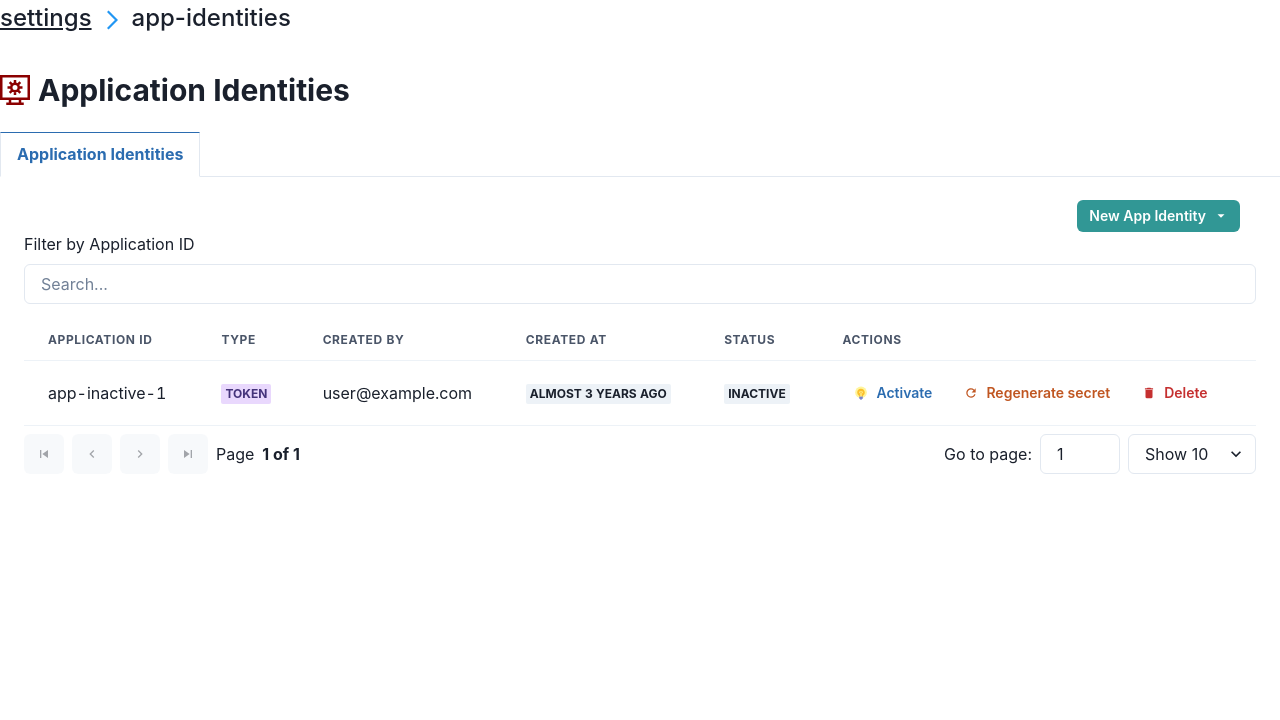
Test case: AppIdentityPage › hides the regenerate secret action once the secret is regenerated
The image size is (1280, 720).
Click the button "Regenerate secret" at (1037, 393), box [952,377,1122,409]
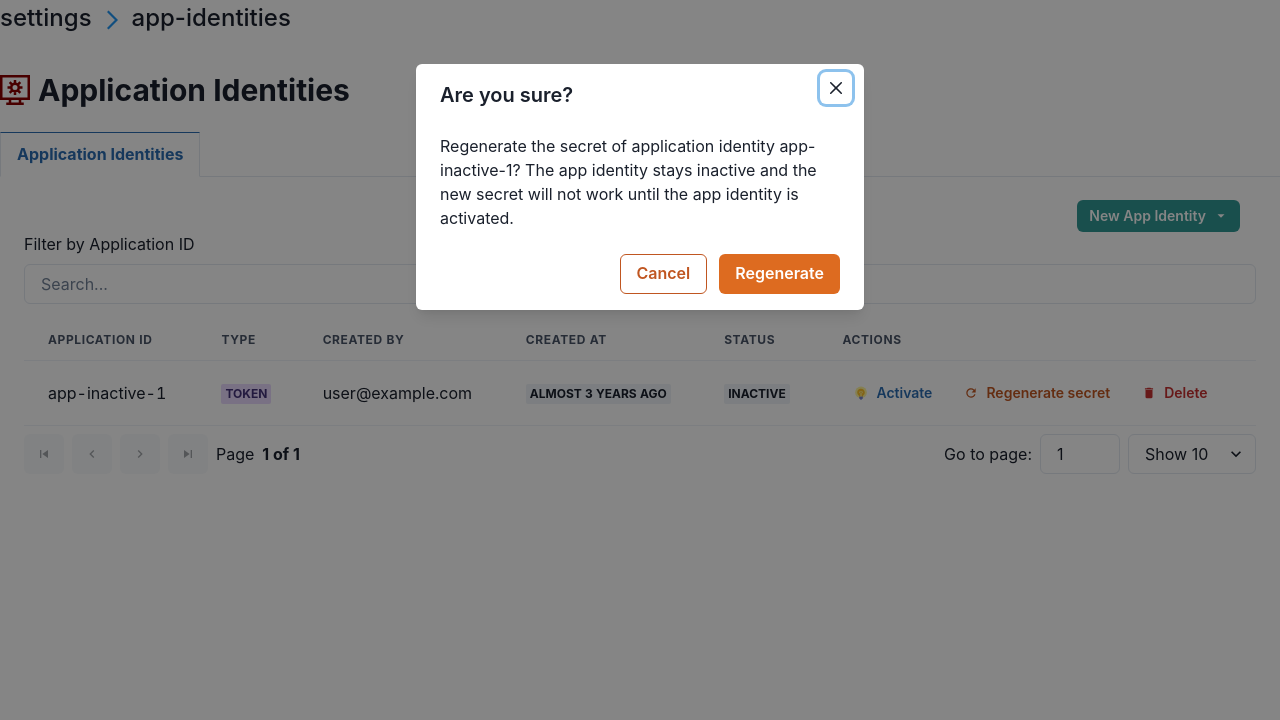
Click the button "Regenerate" at (780, 274), box [719,254,840,294]
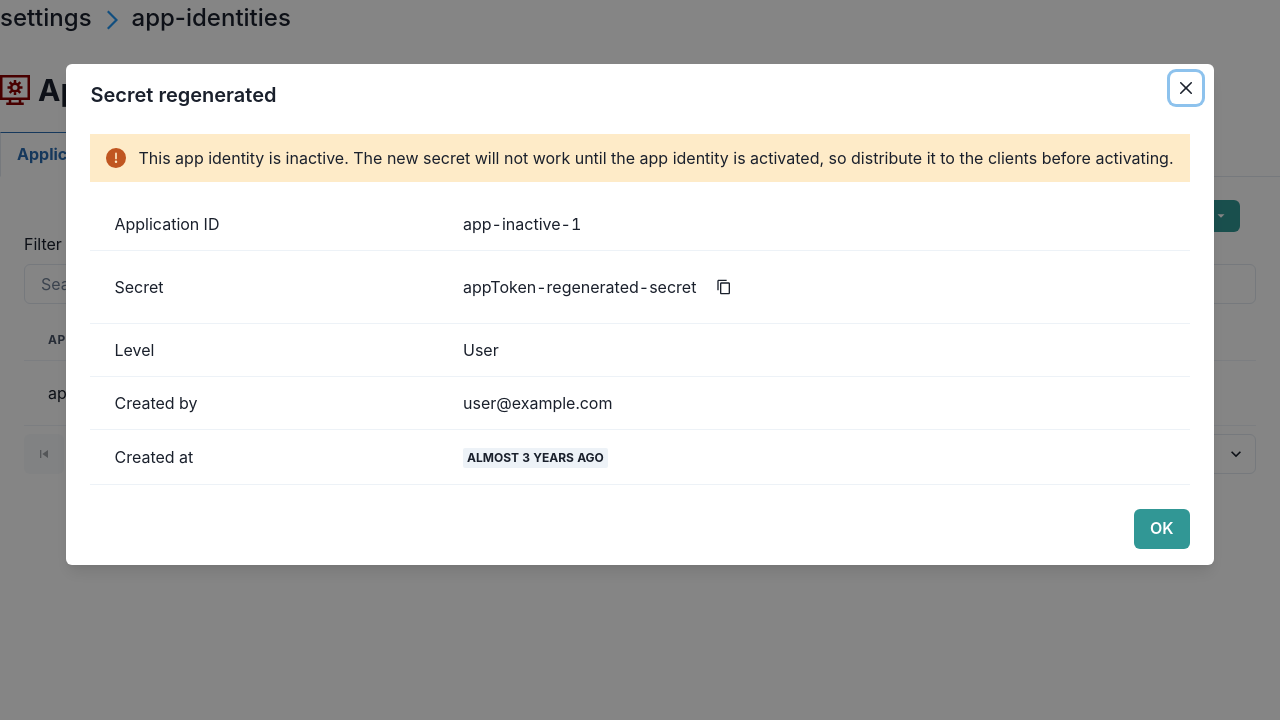
Expected: the text "Secret regenerated" is shown, [90,83,276,107]
Click the button "OK" at (1162, 529), box [1134,509,1190,549]
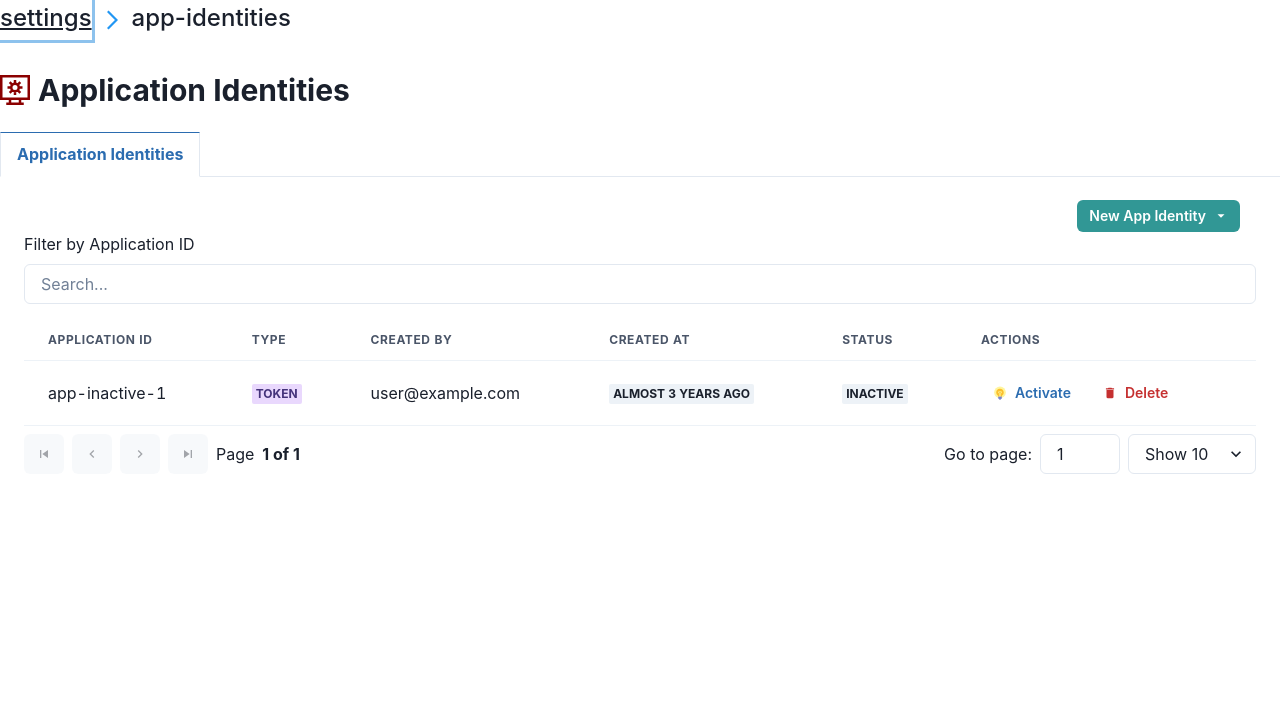
Expected: the button "Regenerate secret" is gone
